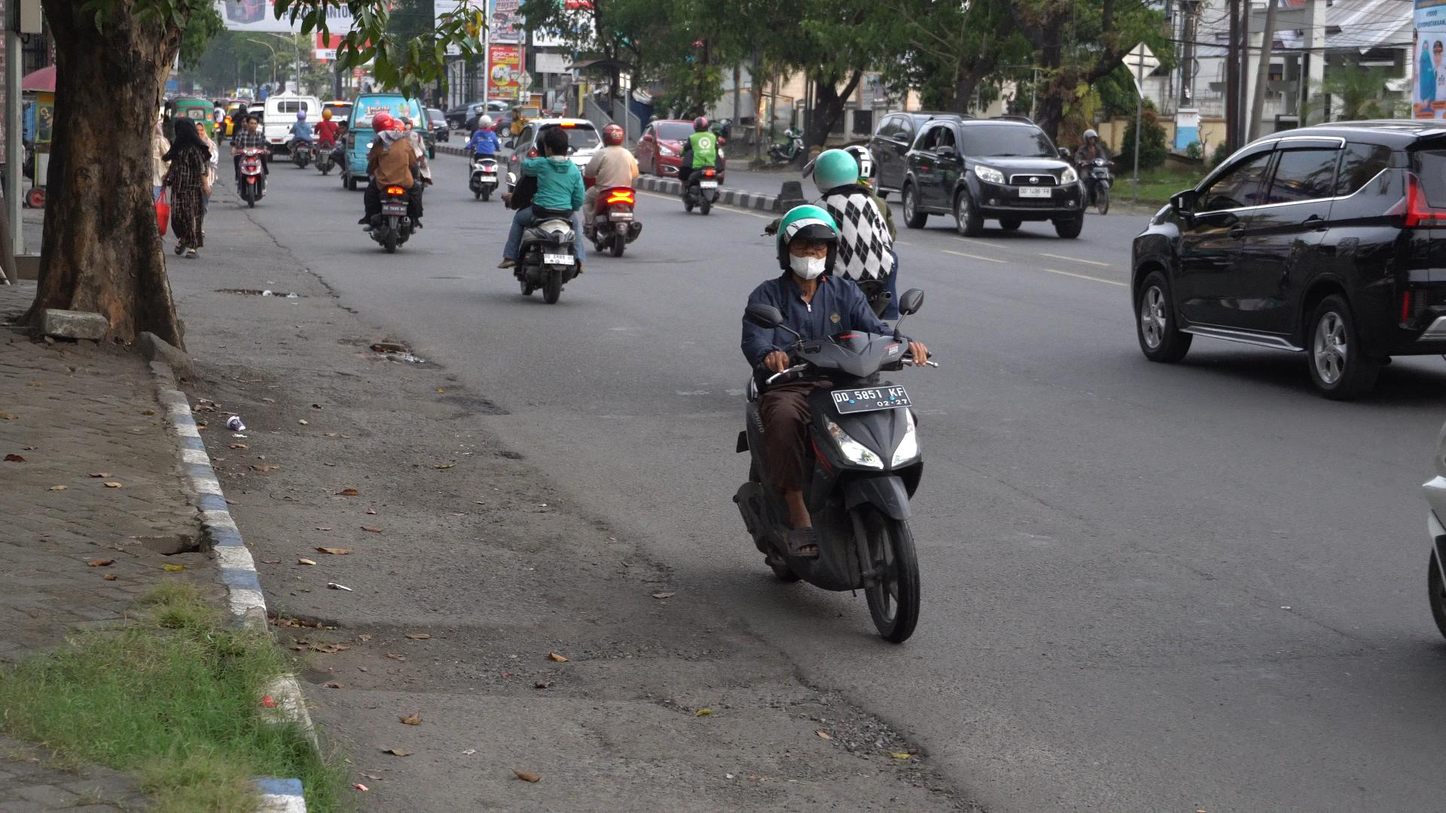number-plate: (831, 375, 915, 420)
